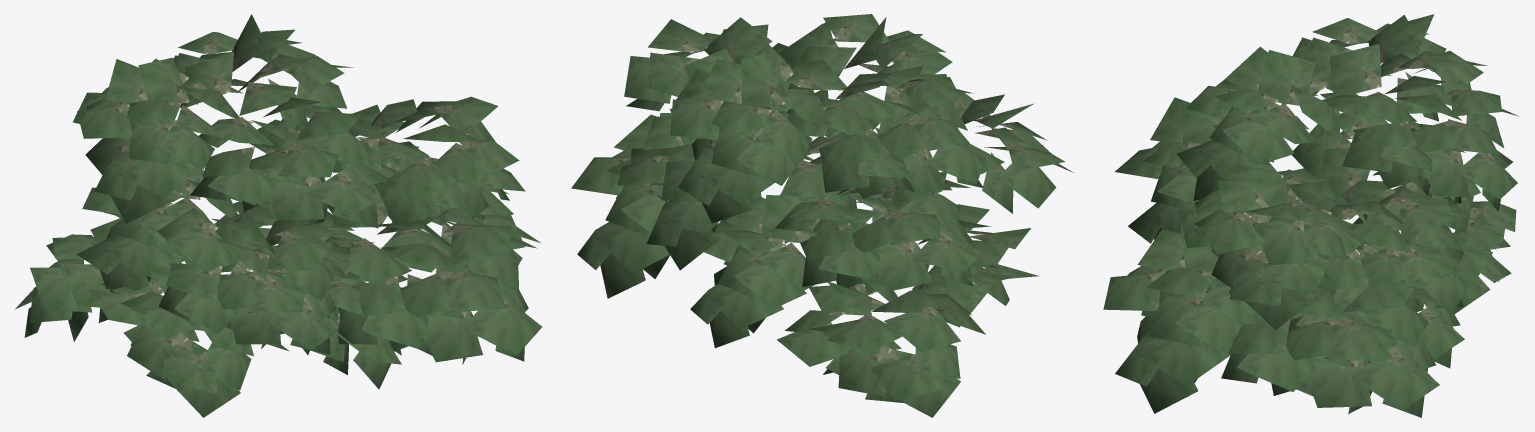
The model's file is SM_pal_b00_bush_RainforestForestBush_01_B_b9b406.glb.
3 views of the same model, side by side, from view 1: azimuth 30°, elevation 25°; view 2: azimuth 150°, elevation 25°; view 3: azimuth 270°, elevation 25° (orthographic).
Size of the model in its own units: 1.77 by 1.16 by 1.49.
1 material, 1 textured.
